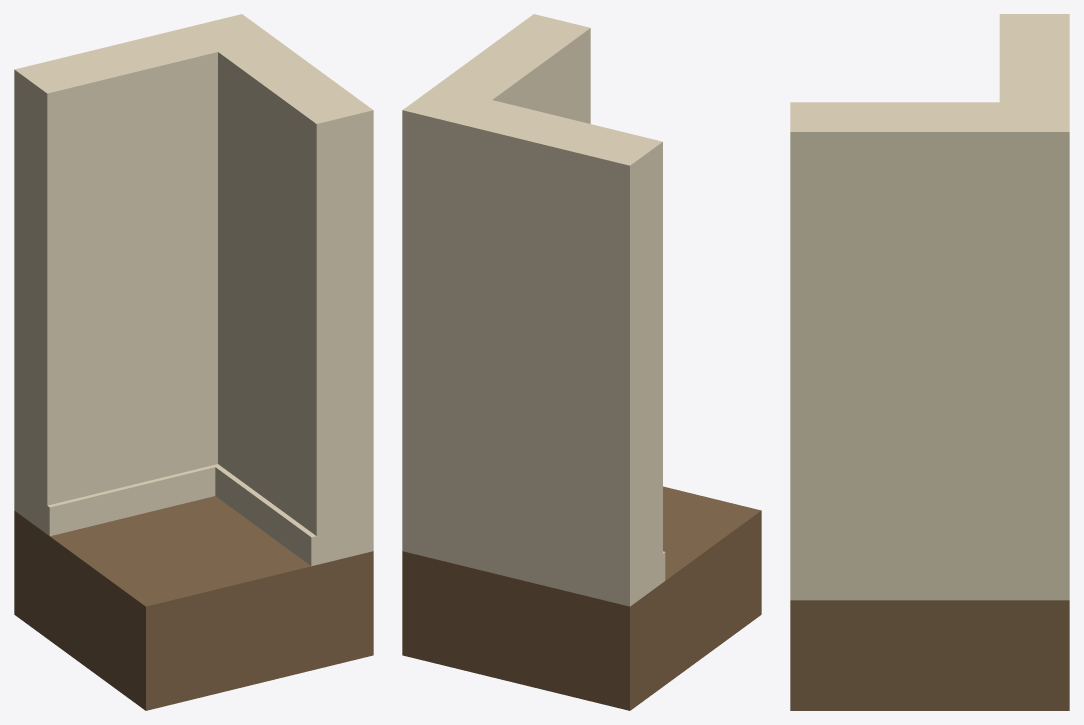
Rendered from CornerWall.fbx.
3 views of the same model, side by side, from view 1: azimuth 30°, elevation 25°; view 2: azimuth 150°, elevation 25°; view 3: azimuth 270°, elevation 25° (orthographic). The views are drawn at different scales.
Parts seen in each view (by area): view 1: CornerWall; view 2: CornerWall; view 3: CornerWall.
Boxes of the visible parts, x1,y1,x2,y2 form: CornerWall: (14, 14, 373, 710); CornerWall: (402, 14, 761, 710); CornerWall: (790, 14, 1069, 710).
Size of the model in its own units: 200 by 458 by 200.
